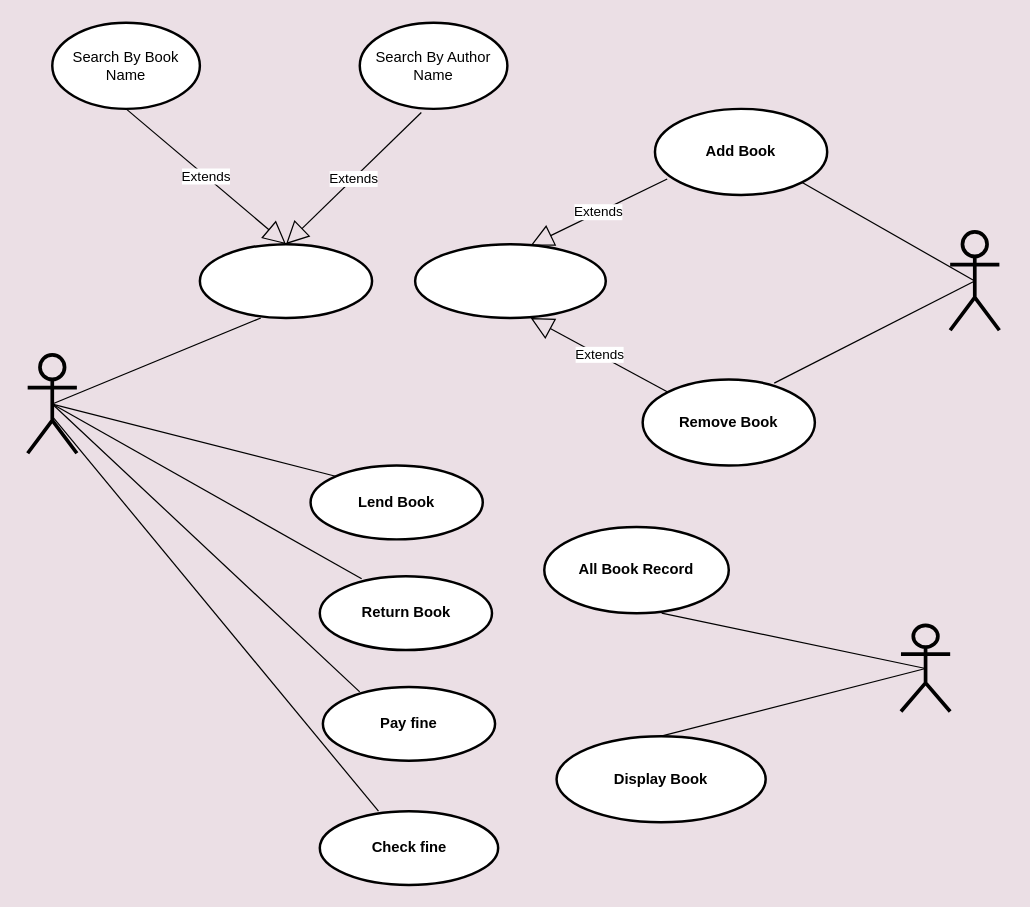
Some shapes in this 1030 by 907 pixel diagram are drawn without their labels. The shapes that lost their labels are listed below. From the top down, each one's centre as x and y in pixels, then its label:
At (285,280): "Search Catalog".
At (509,280): "Update Library".
At (974,280): "Librarian".
At (51,403): "Member".
At (925,668): "Library".
